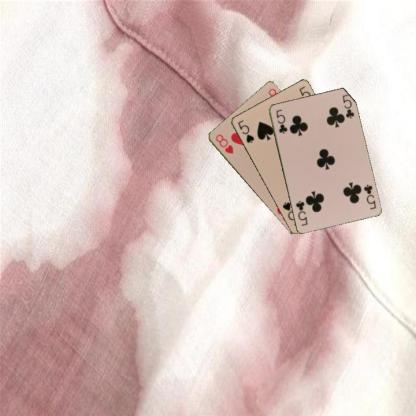5c: (360, 182, 376, 210), (274, 106, 288, 135)
5s: (235, 118, 256, 144)
8h: (212, 132, 235, 155)
